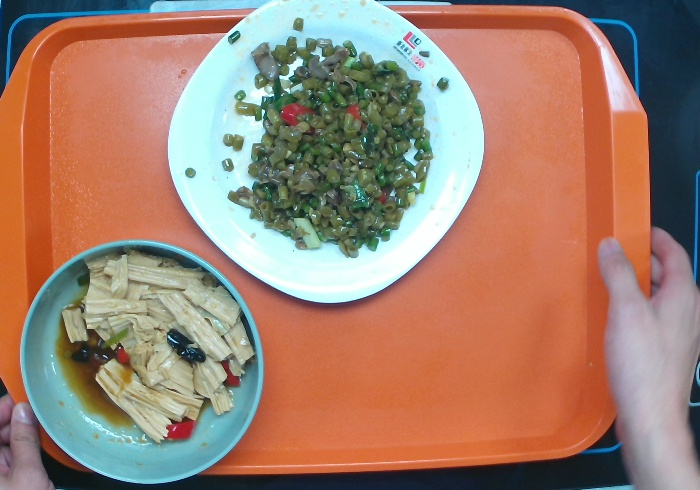ZNLD-Qing_Hua_Yuan_Wan: (13, 219, 274, 490)
ZNLD-Yuan_Jiao_Pan: (154, 1, 491, 318)
